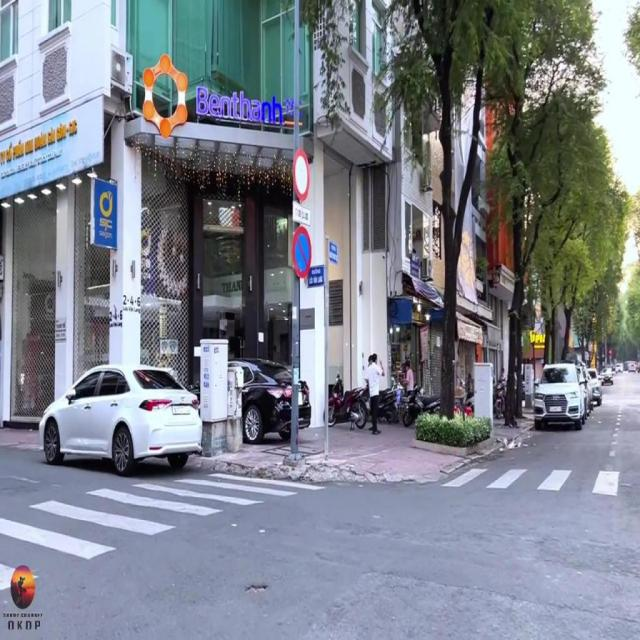cam_do_xe: (292, 225, 312, 279)
khac: (292, 148, 310, 202), (293, 200, 311, 224)
